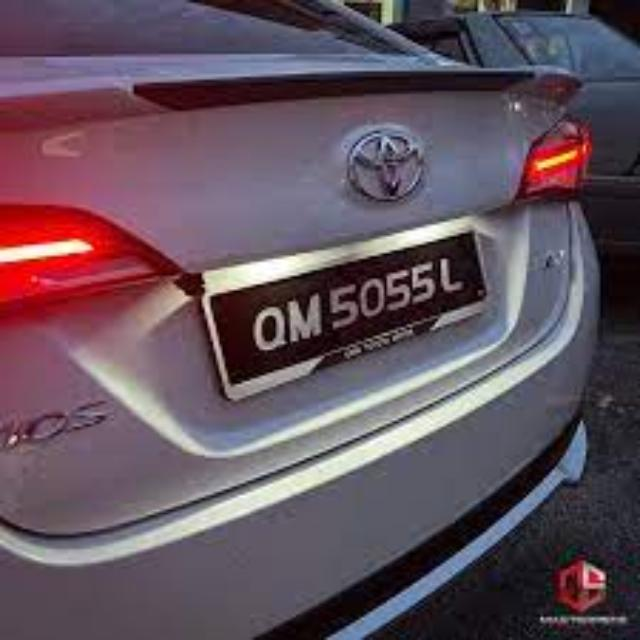License_Plate: (220, 208, 464, 417)
